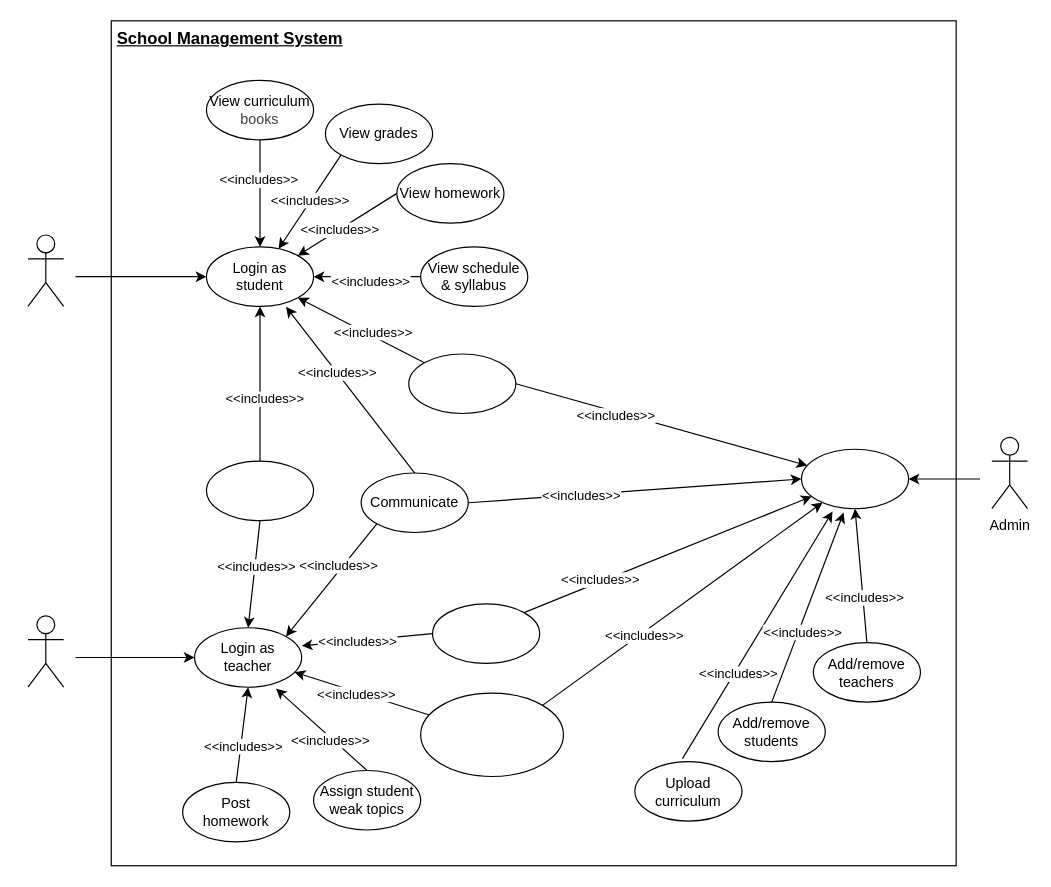
The diagram is 1051 pixels wide and 887 high, and some of its shapes have lost their labels. The shapes that lost their labels are listed below. From the top down, each one's centre as x and y in pixels, then its label:
At point (45, 270): "Student".
At point (462, 383): "View teacher posts".
At point (259, 490): "View student missed topics".
At point (854, 478): "Login as admin".
At point (45, 651): "Teacher".
At point (485, 633): "Assign/update grades".
At point (491, 734): "Assign/update syllabus & schedule".
